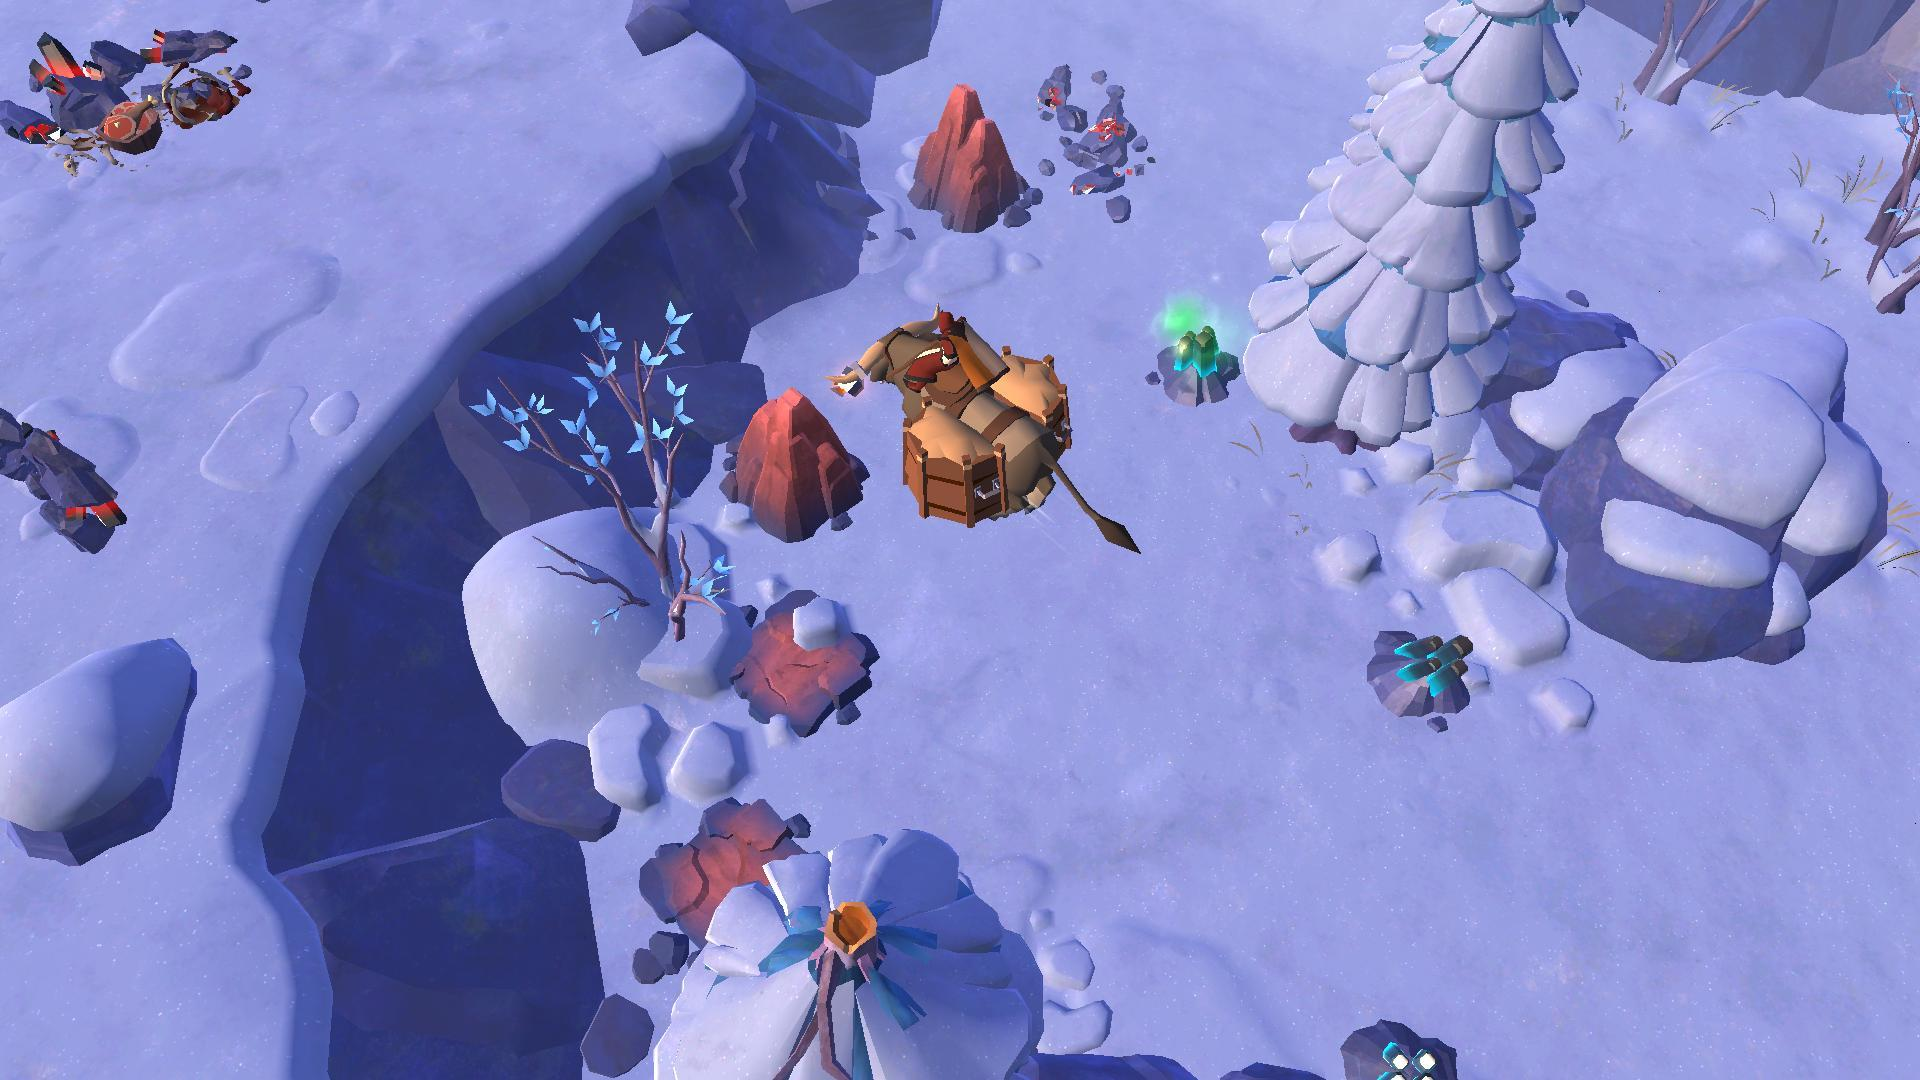ore_t4: (1394, 625, 1468, 703), (1168, 318, 1226, 384), (1373, 1035, 1443, 1080)
rock_t5: (724, 388, 869, 535), (901, 88, 1035, 228)
